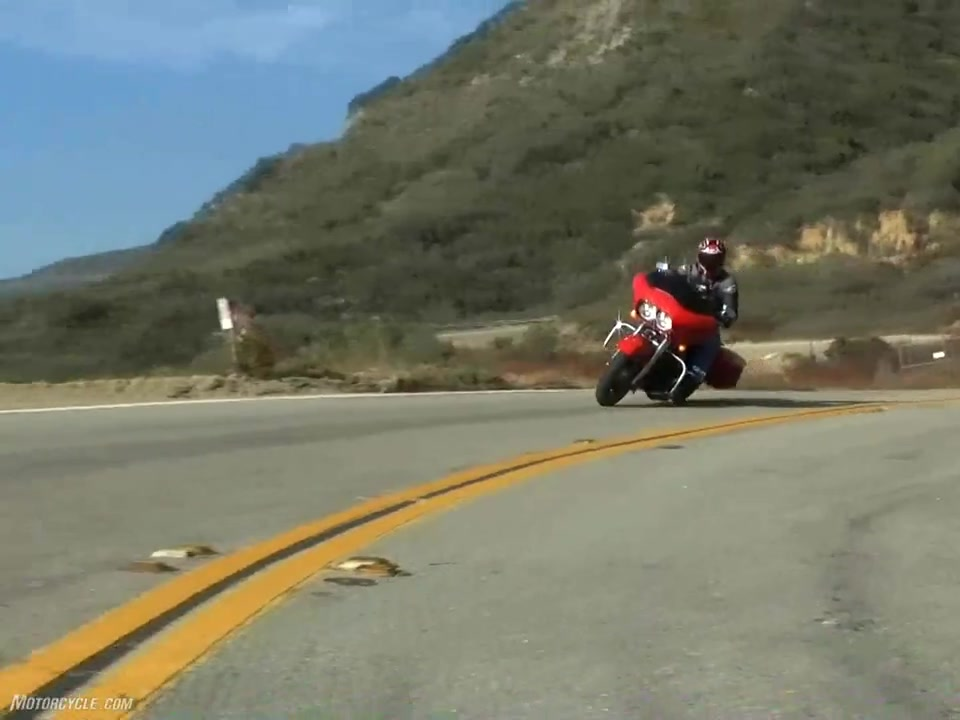motorbike: (596, 260, 748, 408)
